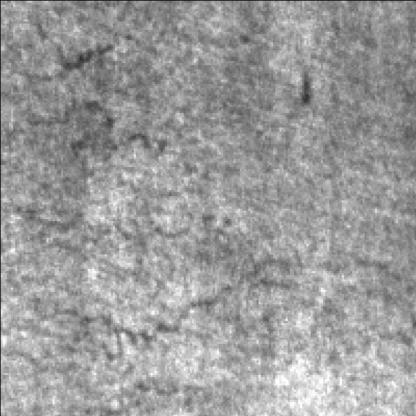crazing: (17, 216, 391, 377), (0, 29, 173, 185)
